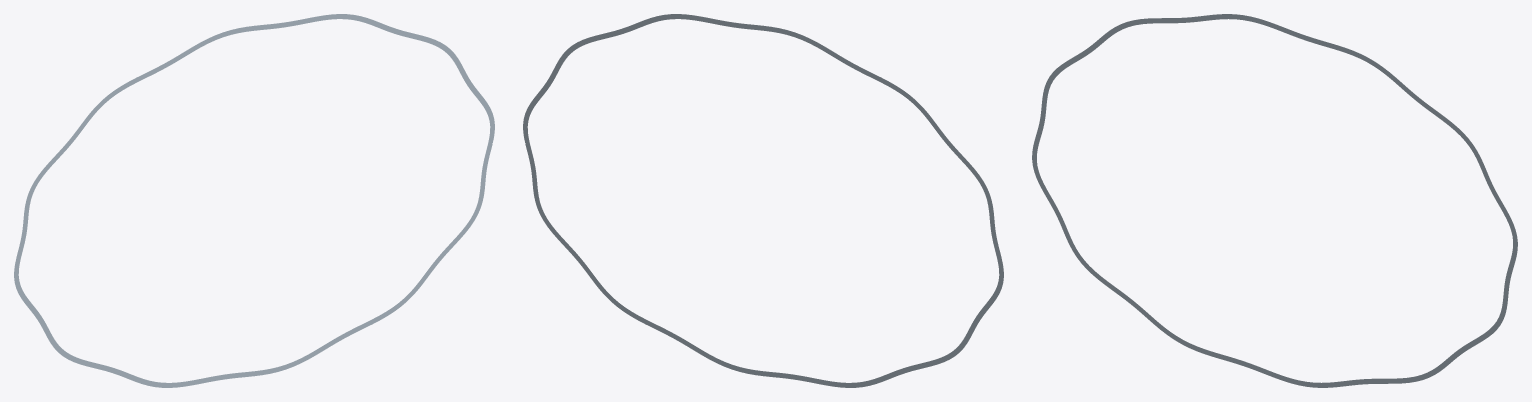
The model's file is Diona_SignatureMixField_State_WineFieldBoundary.fbx.
3 renders of one model, left to right at view 1: azimuth 30°, elevation 25°; view 2: azimuth 150°, elevation 25°; view 3: azimuth 330°, elevation 25°, orthographic.
Visible parts, largest first — view 1: PART_PinkWhiteWineFieldBoundary; view 2: PART_PinkWhiteWineFieldBoundary; view 3: PART_PinkWhiteWineFieldBoundary.
Part boxes in pixels (x1=…): PART_PinkWhiteWineFieldBoundary: x1=14, y1=14, x2=494, y2=387; PART_PinkWhiteWineFieldBoundary: x1=523, y1=14, x2=1003, y2=387; PART_PinkWhiteWineFieldBoundary: x1=1032, y1=14, x2=1517, y2=387.
Bounding box in the file's own units: 974 × 684 × 0.000111.
